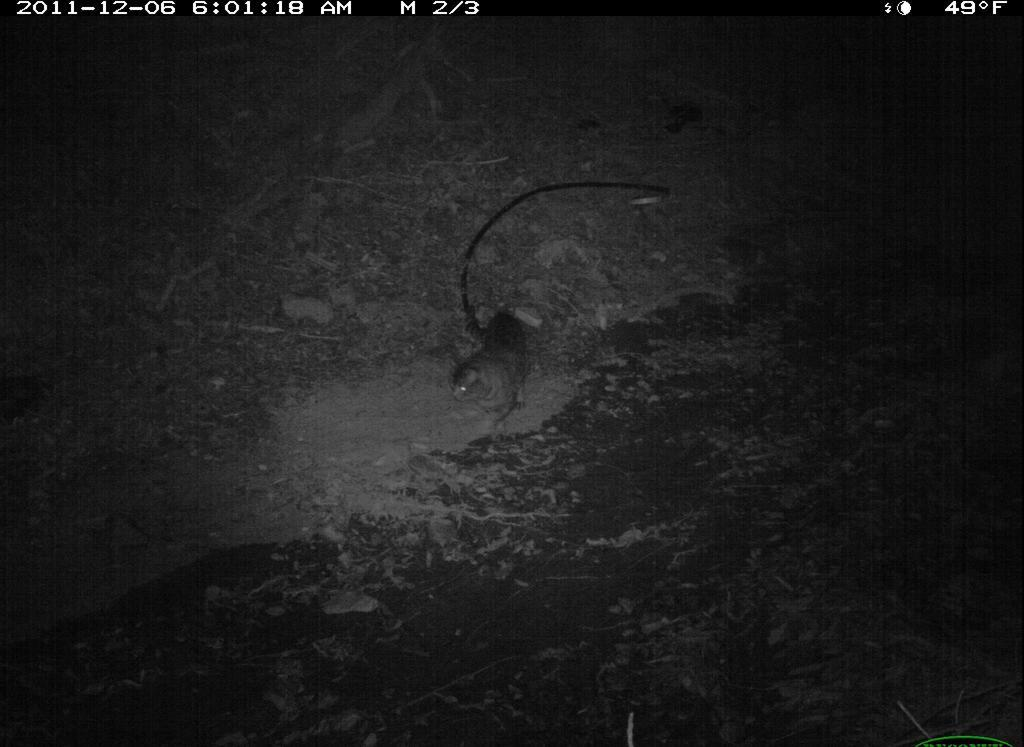cat: (449, 303, 539, 442)
